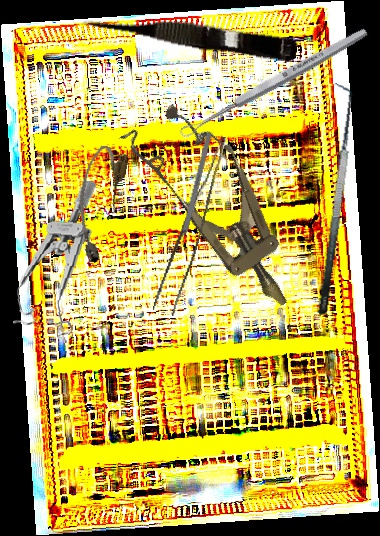Cannula: (65, 142, 131, 266)
Hook Surgical: (176, 132, 213, 254)
Micro Scissor: (80, 5, 299, 63)
Spatula Surgical: (298, 82, 365, 317)
Speculum: (118, 88, 321, 330), (11, 175, 97, 345)
Surgical Spoon: (177, 24, 371, 141)
Tissue Forceps: (152, 130, 227, 318)
